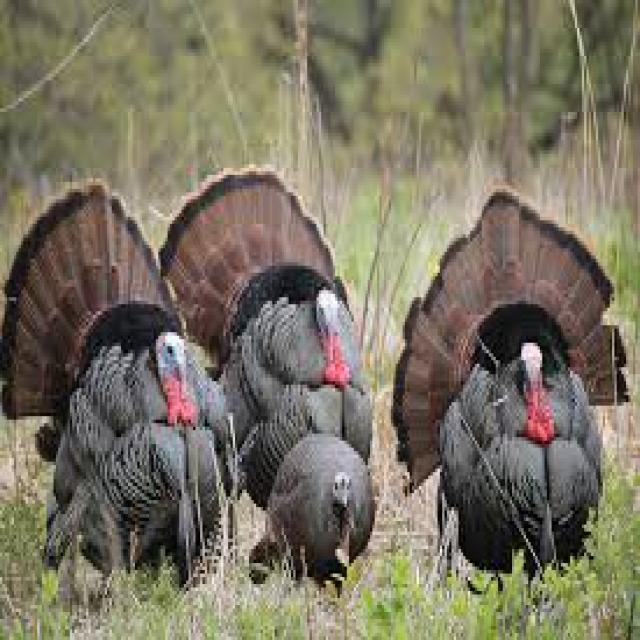Turkey: (0, 164, 247, 634), (398, 176, 636, 580), (179, 156, 393, 584), (248, 424, 387, 597)
